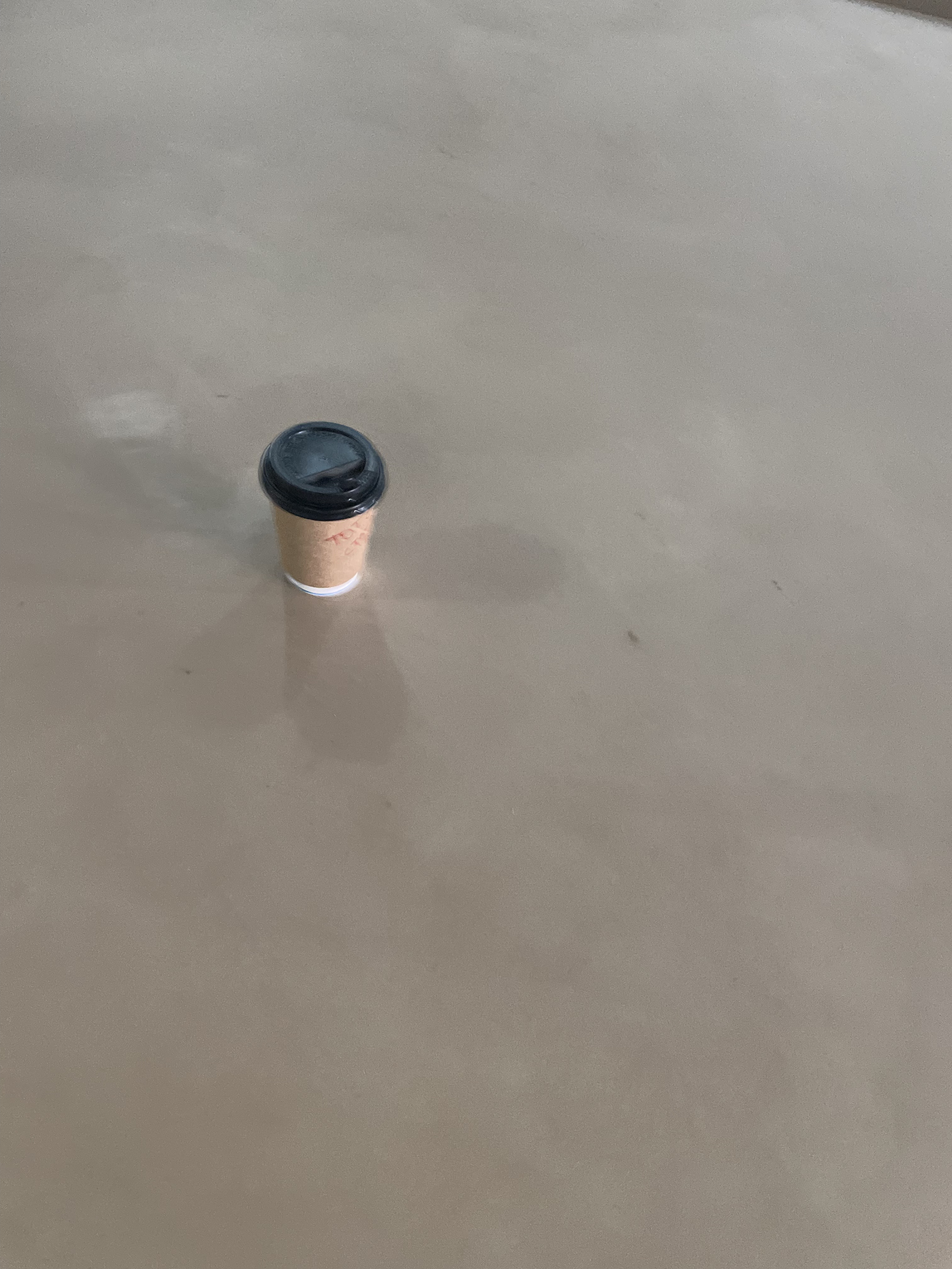cup: (257, 420, 388, 598)
